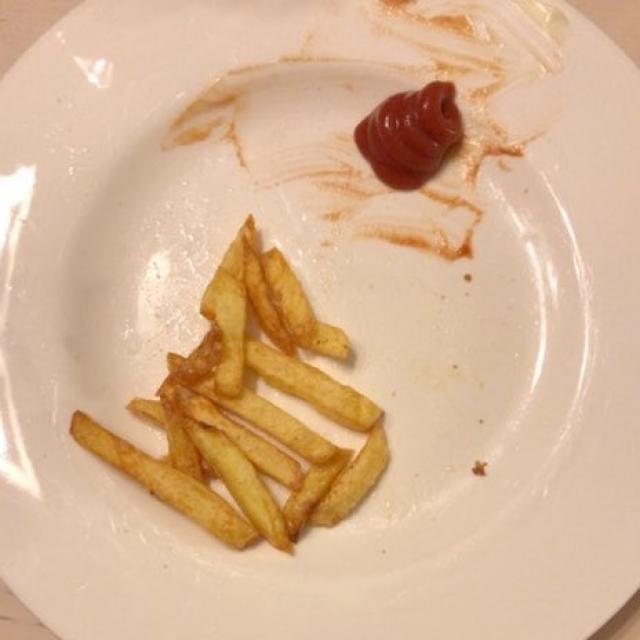chips-french-fries: (82, 228, 386, 544)
ketchup: (355, 82, 461, 181)
